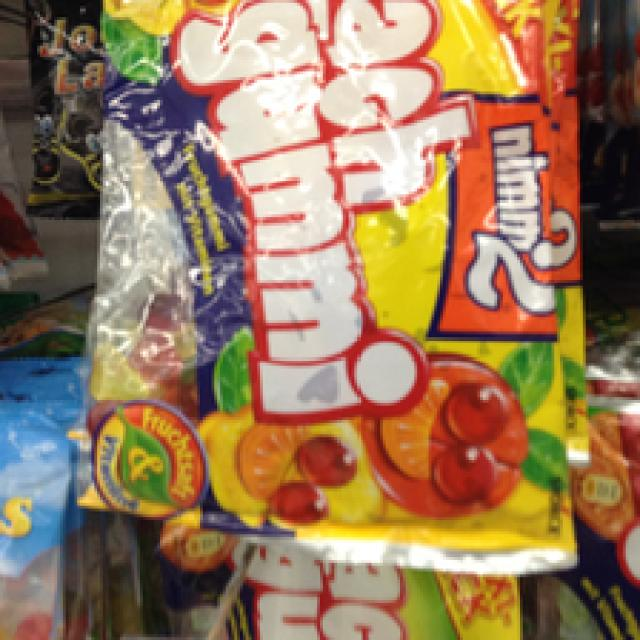groceries: (100, 0, 580, 566)
